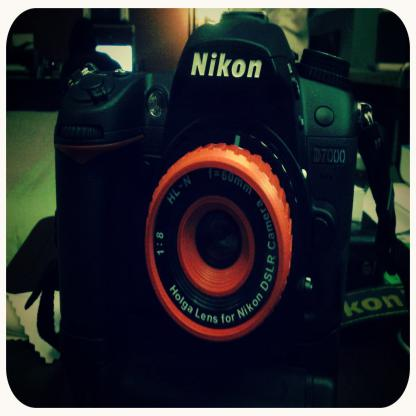Camera: (53, 9, 361, 377)
